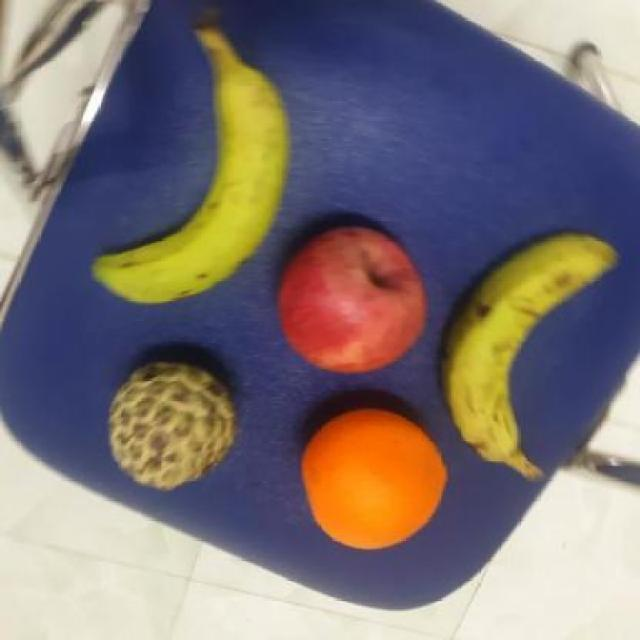apple: (278, 221, 433, 377)
banana: (90, 61, 288, 314), (440, 230, 625, 464)
oren: (294, 407, 448, 555)
sugar apple: (104, 358, 238, 494)
